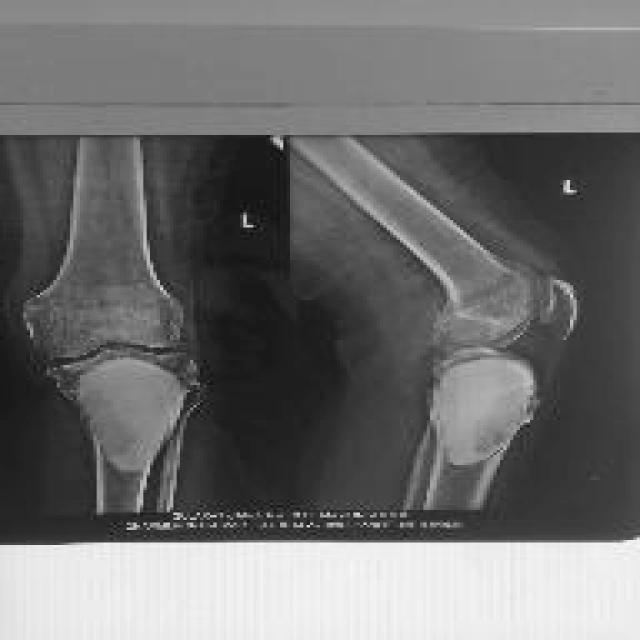bone-cancer: (78, 358, 187, 472), (432, 358, 535, 464)
